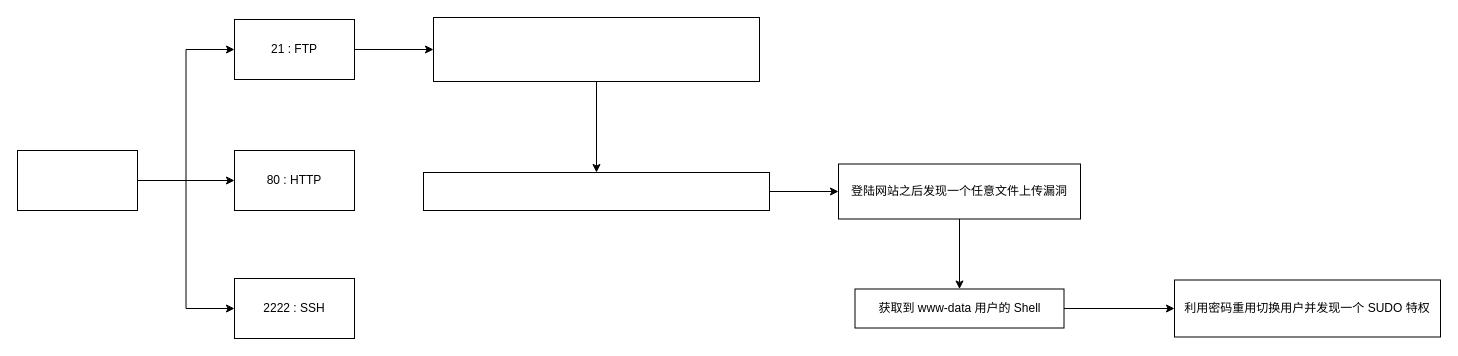
The diagram is 1458 pixels wide and 356 high, and some of its shapes have lost their labels. The shapes that lost their labels are listed below. From the top down, each one's box as (x1, y1, x2, y2) in pixels, then its label:
(432, 16, 760, 82): 存在匿名身份认证, 告诉我们系统中存在以下弱点 弱密码 密码重用 : 系统和网站存在相同用户， 且密码相同
(16, 150, 138, 210): 端口扫描
(422, 172, 770, 210): 访问发现一个 CMS , 并发现其存在 sqli,寻找 exp 直接运行
